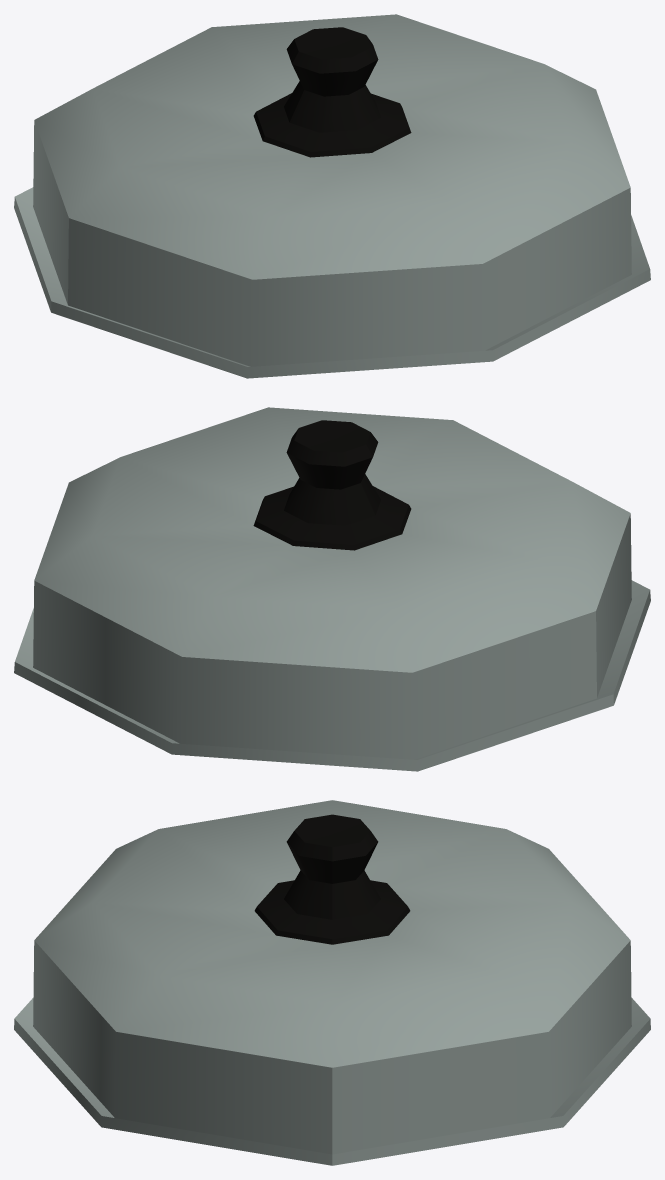
File: tutup_panci.fbx
3 views of the same model, one above another, from view 1: azimuth 30°, elevation 25°; view 2: azimuth 150°, elevation 25°; view 3: azimuth 270°, elevation 25° (orthographic).
Parts seen in each view (by area): view 1: tutup panci; view 2: tutup panci; view 3: tutup panci.
Part boxes in pixels (x1,y1,x2,y2): tutup panci: [14, 14, 650, 378]; tutup panci: [14, 407, 650, 771]; tutup panci: [14, 800, 650, 1165].
Size of the model in its own units: 63 by 21.51 by 62.3.
